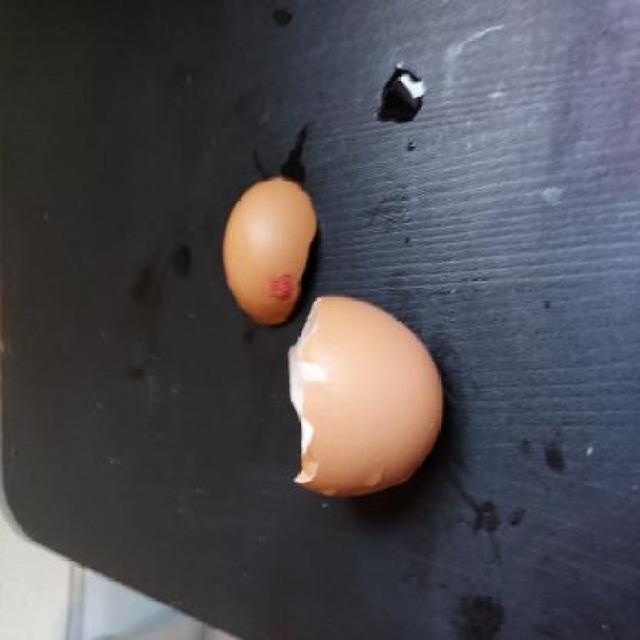biodegradable: (287, 293, 442, 504), (224, 184, 318, 326)
